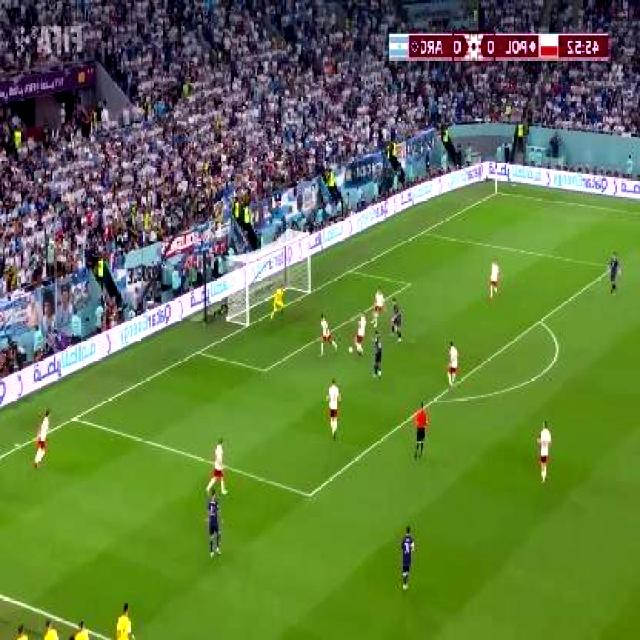bigarea_bottom_inner: (302, 482, 318, 506)
bigarea_bottom_outter: (66, 408, 83, 428)
bigarea_top_inner: (605, 260, 617, 277)
bigarea_top_outter: (417, 224, 429, 238)
bottom_arc_area_intersection: (428, 389, 443, 409)
corner: (491, 186, 506, 199)
smallarea_bottom_inner: (257, 357, 274, 381)
smallarea_bottom_outter: (192, 342, 208, 360)
smallarea_top_inner: (404, 275, 418, 291)
smallarea_top_outter: (343, 262, 359, 278)
top_arc_area_intersection: (534, 311, 549, 329)
